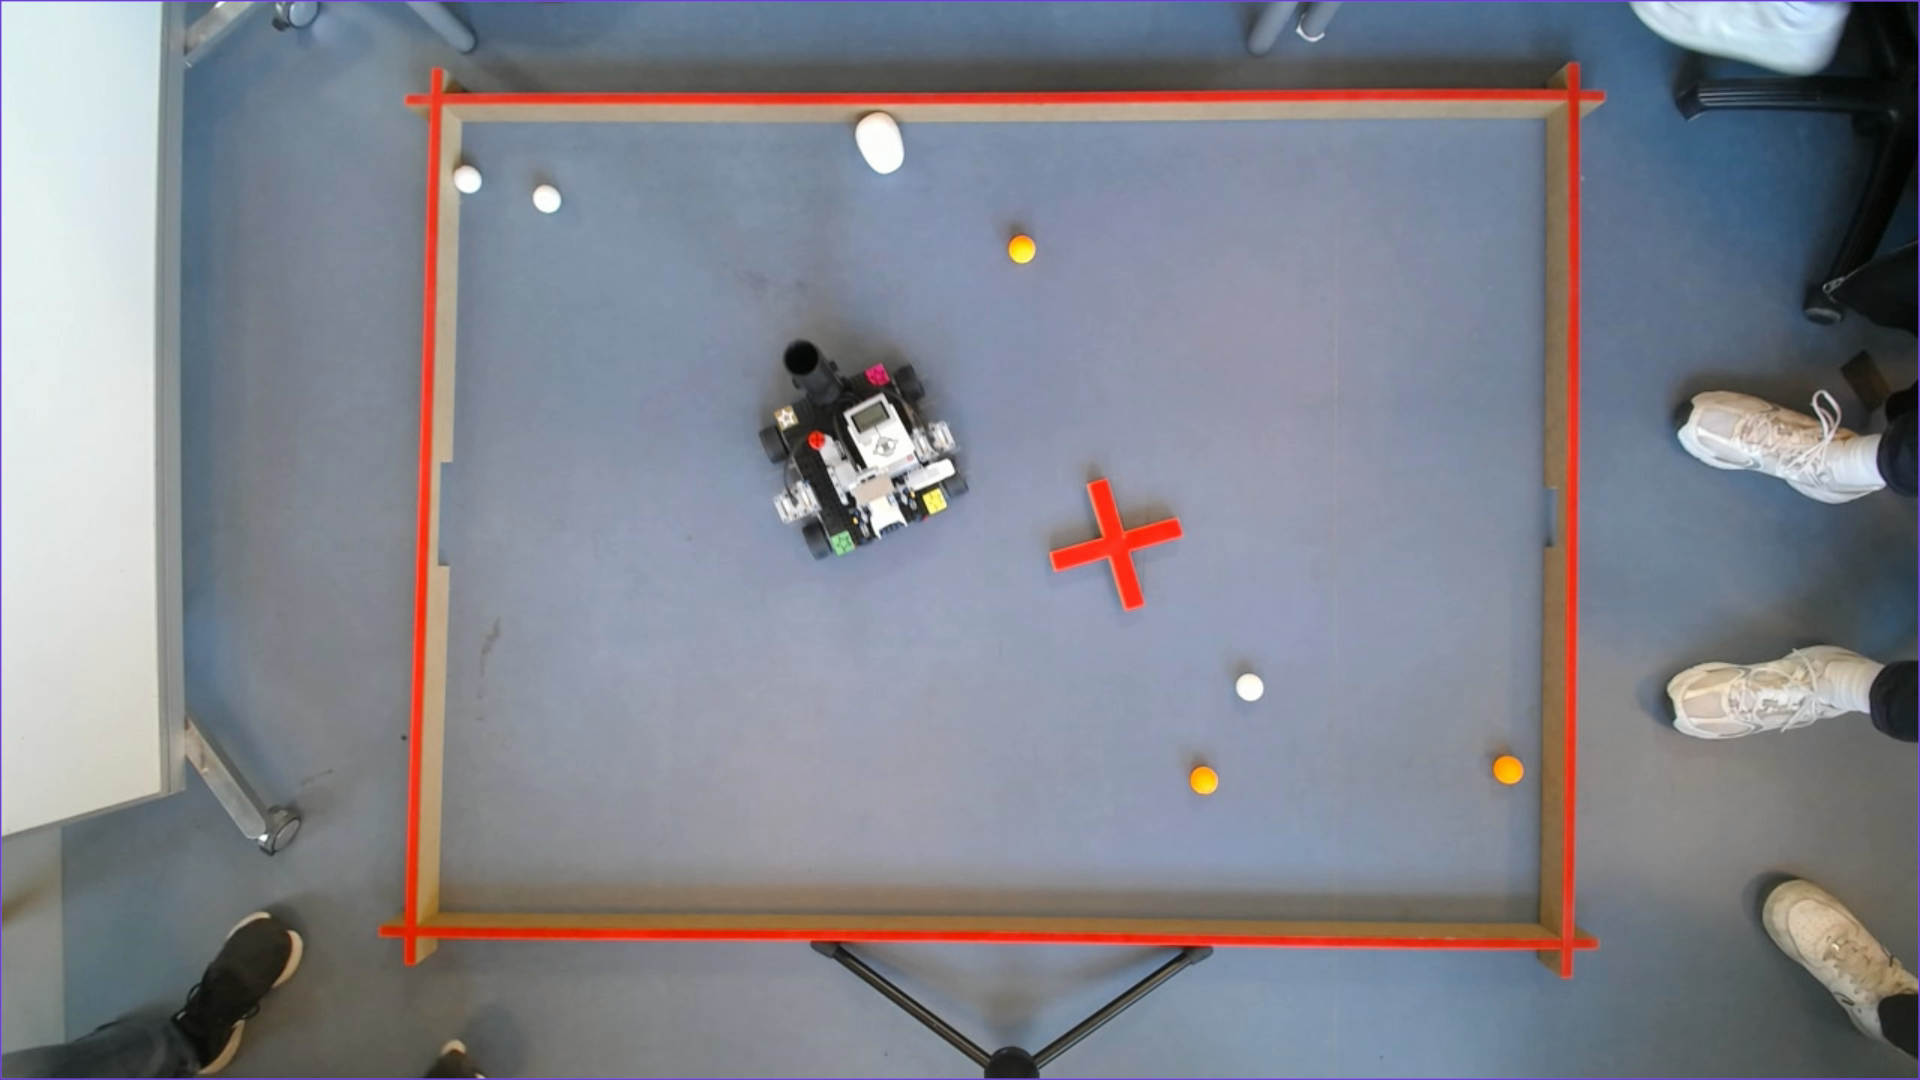ball_orange: (1494, 753, 1524, 786), (1007, 235, 1036, 265), (1189, 766, 1218, 796)
ball_white: (531, 183, 560, 212), (1236, 673, 1265, 702), (455, 167, 483, 196)
corner_brown: (774, 404, 800, 430)
corner_green: (829, 530, 856, 554)
corner_pink: (865, 363, 891, 386)
corner_yellow: (923, 487, 948, 514)
cross: (1051, 477, 1184, 611)
egg: (855, 111, 905, 174)
playfield: (398, 91, 1580, 944)
